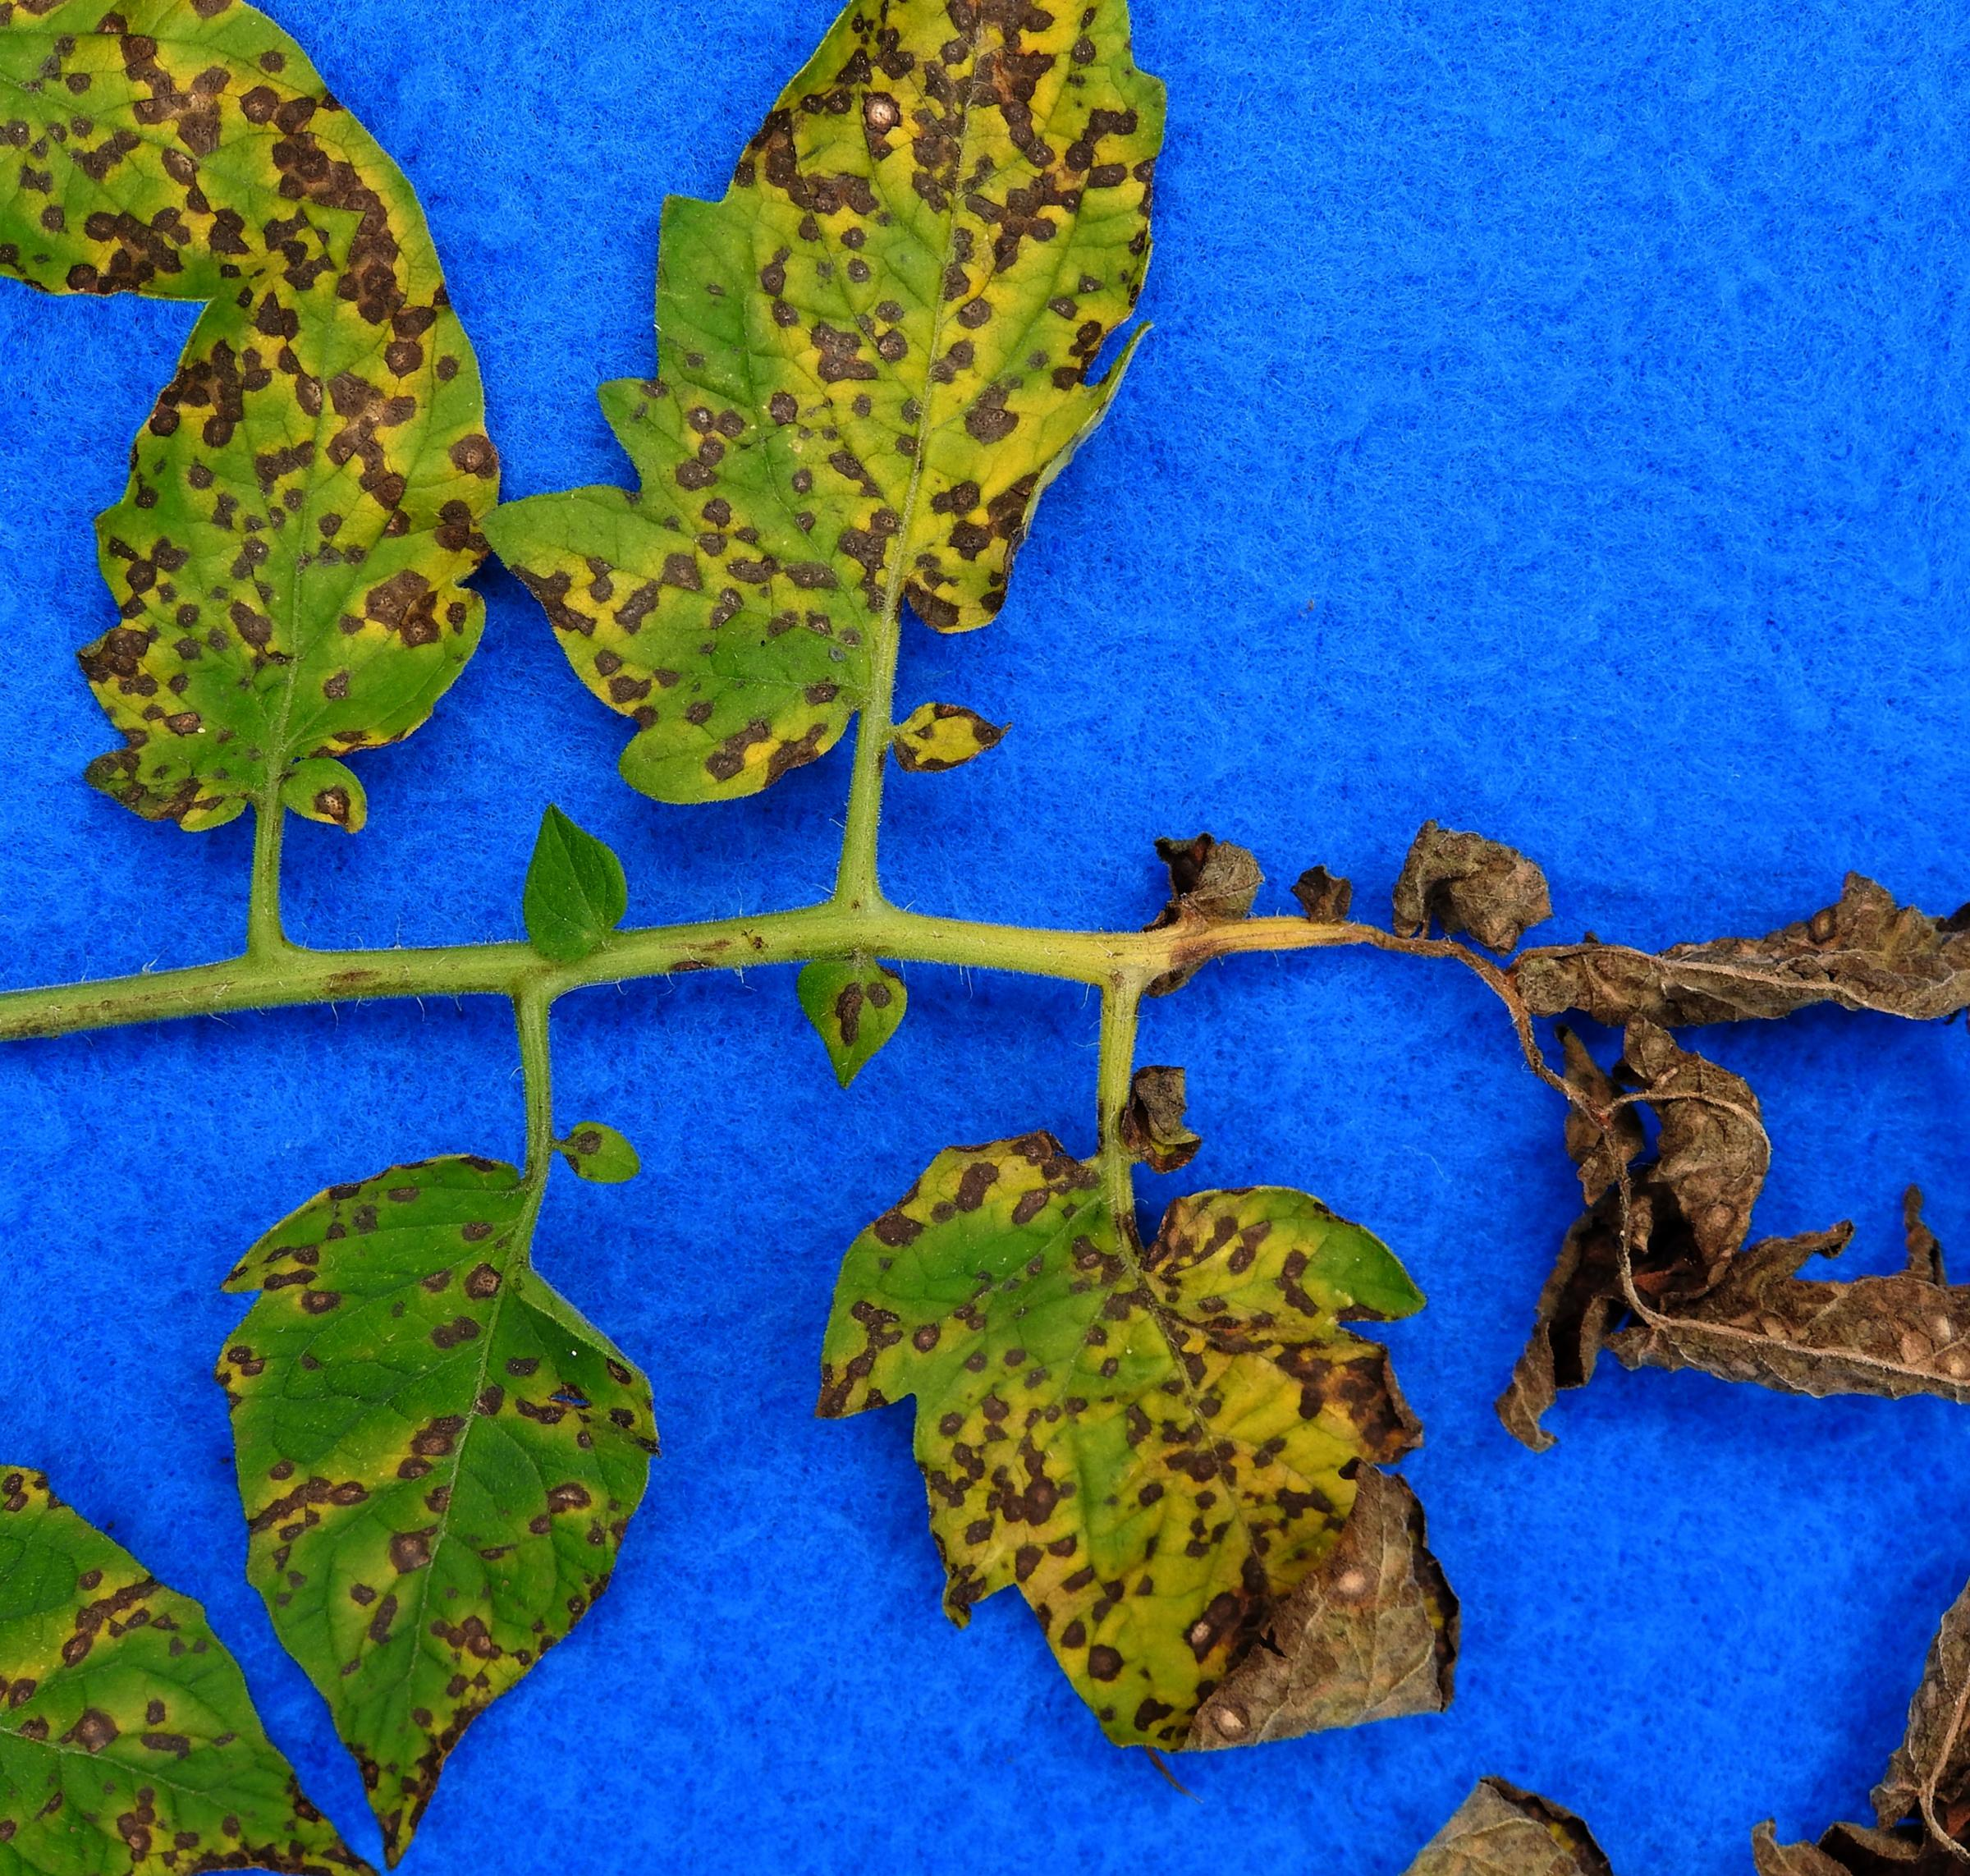Tomato Septoria leaf spot: (318, 0, 1529, 890), (741, 959, 1669, 1876), (46, 1026, 841, 1876), (0, 192, 679, 933)
